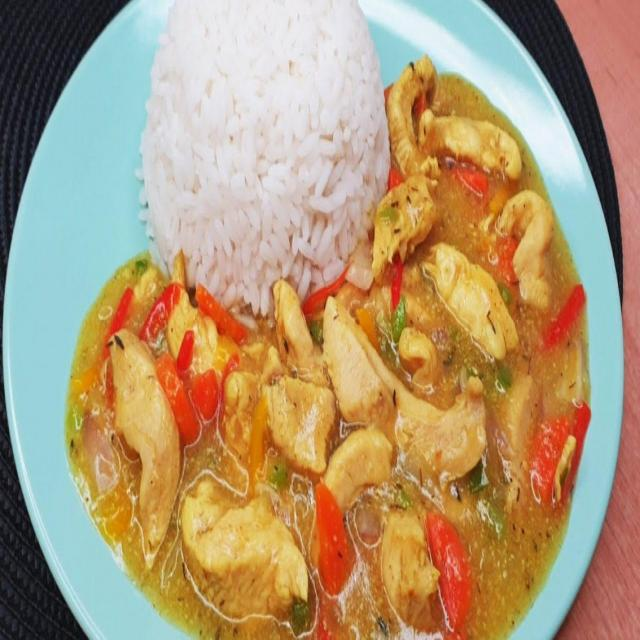chicken: (14, 261, 602, 638), (383, 47, 563, 258)
rice: (151, 9, 375, 271)
